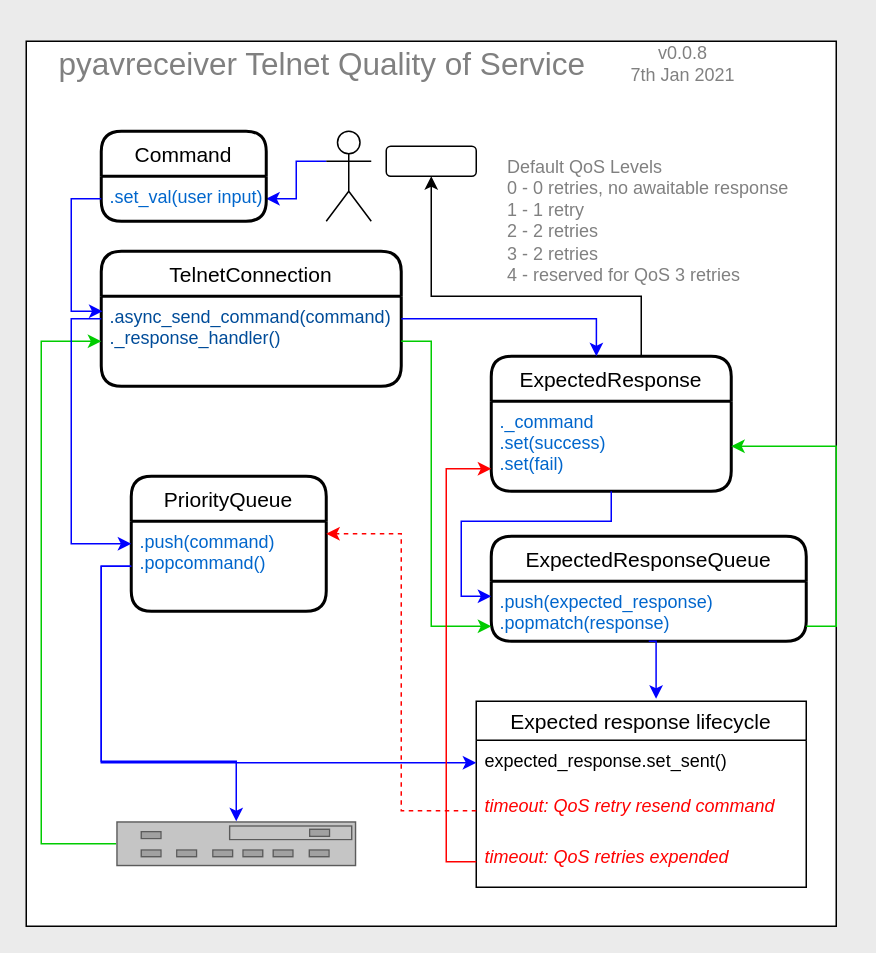
The diagram is 876 pixels wide and 953 high, and some of its shapes have lost their labels. The centre of each missing label's shape, as x and y in pixels:
"response" belongs at [430,160].
"User" belongs at [348,175].
